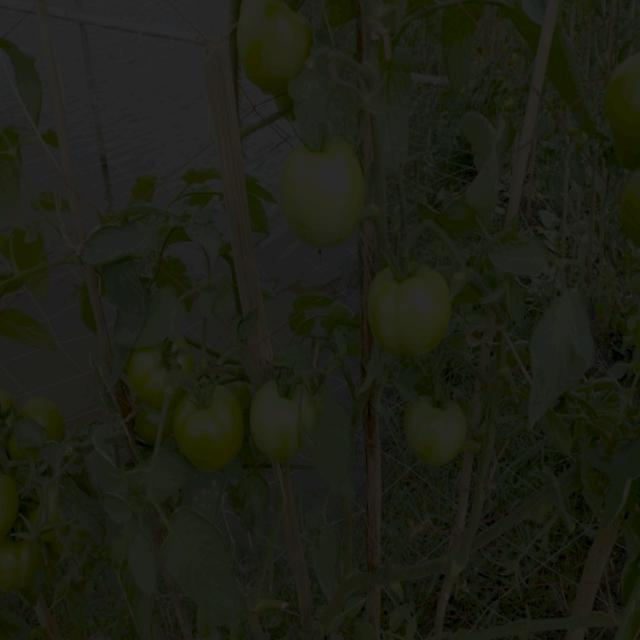tomato: (281, 141, 378, 252), (371, 259, 455, 359), (242, 1, 305, 98), (176, 384, 244, 470), (254, 375, 316, 462), (403, 391, 469, 468), (125, 341, 195, 392), (613, 58, 640, 180), (25, 401, 74, 438), (617, 175, 640, 252), (1, 388, 25, 459), (7, 532, 36, 590), (3, 468, 26, 538), (138, 403, 169, 439)
